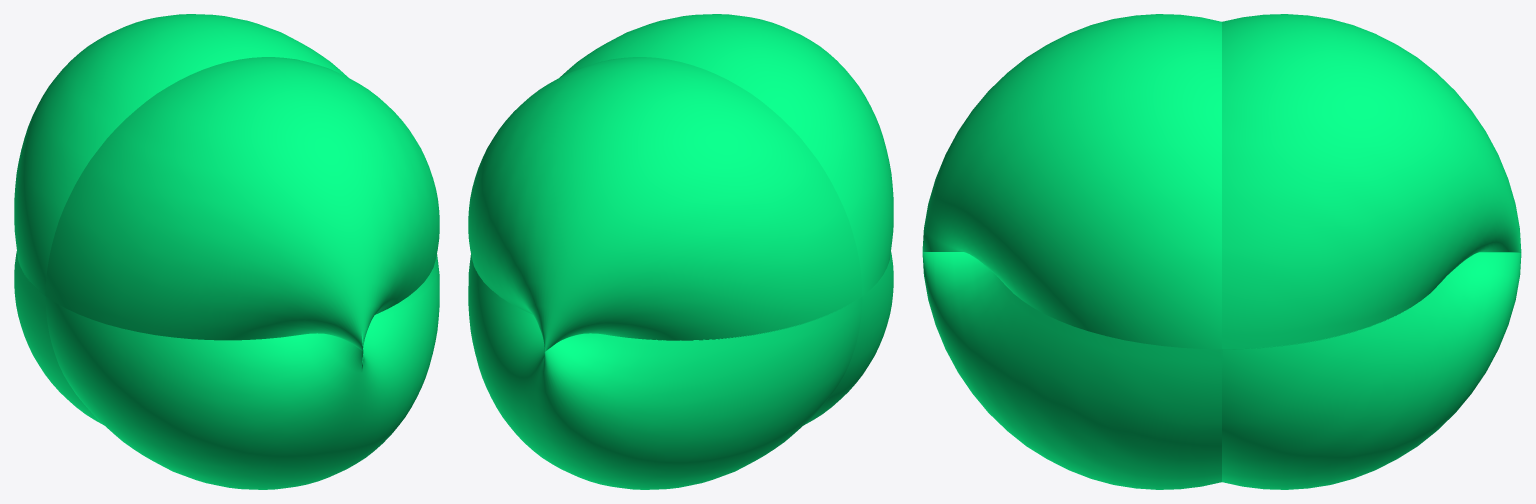
The model's file is riemann_curvature_surface_ar_universal.glb.
3 views of the same model, side by side, from view 1: azimuth 30°, elevation 25°; view 2: azimuth 150°, elevation 25°; view 3: azimuth 270°, elevation 25° (orthographic). The views are drawn at different scales.
Parts seen in each view (by area): view 1: riemann_curvature_surface_ar; view 2: riemann_curvature_surface_ar; view 3: riemann_curvature_surface_ar.
Part boxes in pixels (left/top/right/bottom): riemann_curvature_surface_ar: left=14, top=14, right=439, bottom=489; riemann_curvature_surface_ar: left=468, top=14, right=893, bottom=489; riemann_curvature_surface_ar: left=922, top=14, right=1521, bottom=489.
Bounding box in the file's own units: 0.7682 × 0.8004 × 1.
